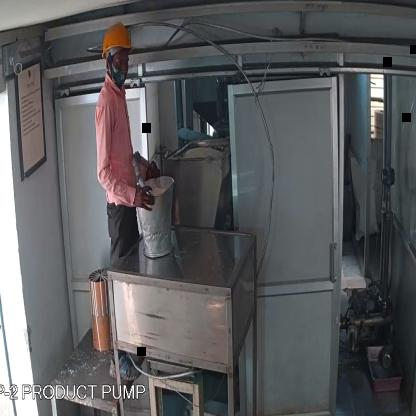helmet: (92, 16, 140, 67)
